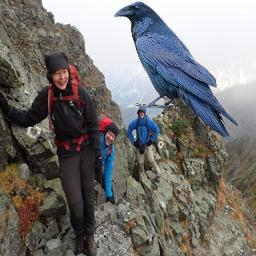Crow: (112, 0, 239, 137)
